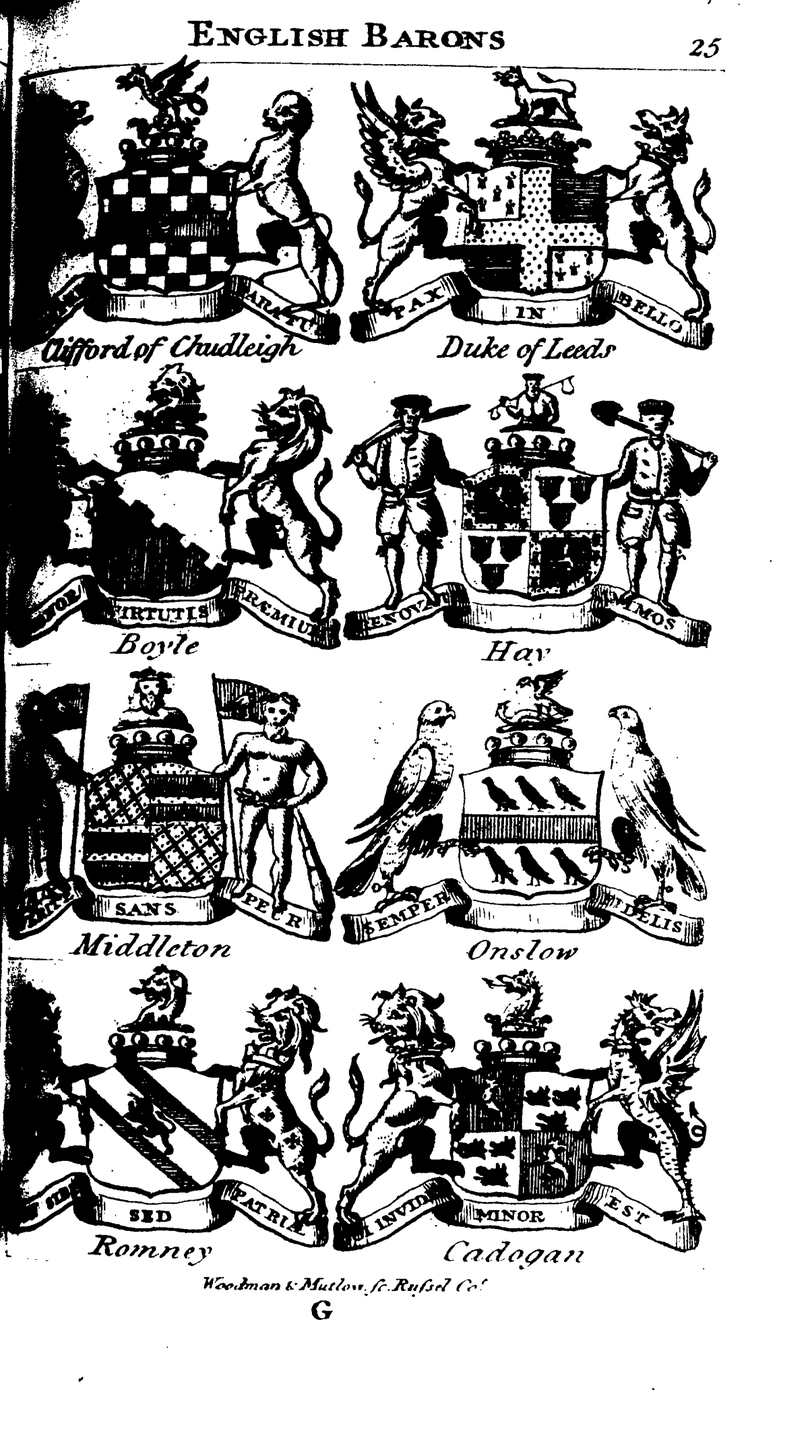coat_of_arms: (353, 67, 724, 380), (345, 378, 733, 672), (330, 973, 716, 1268), (347, 670, 712, 972), (13, 371, 349, 674), (13, 71, 350, 372), (9, 685, 344, 965), (11, 967, 324, 1260)
